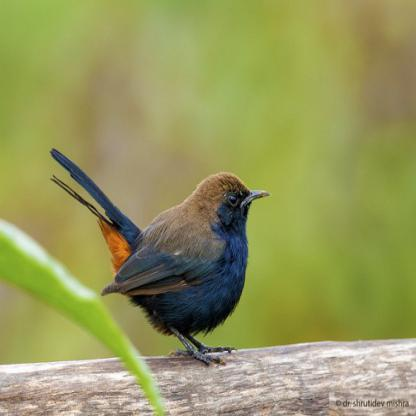Burung: (47, 145, 270, 366)
